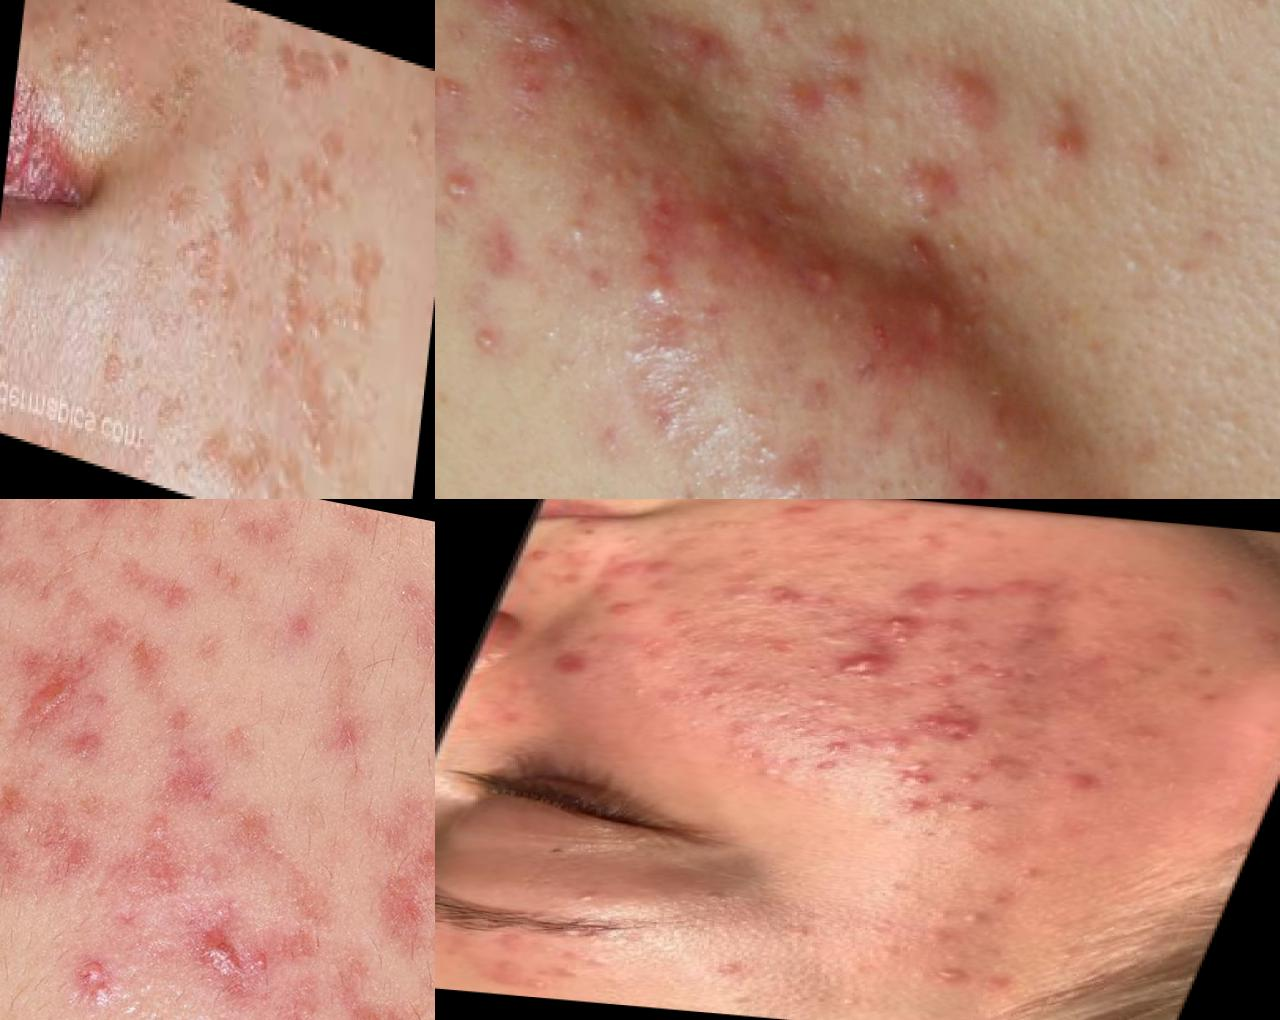flat_wart: (85, 312, 345, 500), (230, 136, 396, 379), (149, 165, 272, 353), (44, 1, 116, 121), (270, 22, 352, 123)
keloid: (167, 907, 297, 1003), (1, 637, 88, 757)
papular: (732, 230, 803, 303), (679, 193, 742, 260), (874, 578, 969, 622), (539, 647, 615, 681), (747, 581, 820, 615), (601, 550, 659, 582), (1056, 769, 1124, 795), (959, 754, 1026, 780), (973, 663, 1033, 687), (640, 557, 698, 581), (515, 541, 566, 567), (597, 600, 652, 622), (774, 500, 827, 522), (941, 584, 992, 606), (921, 673, 967, 694)
purulent: (802, 238, 878, 314), (460, 299, 521, 377), (626, 252, 698, 318), (436, 155, 492, 227), (549, 199, 614, 260), (910, 960, 996, 996), (876, 753, 947, 792), (857, 608, 929, 639), (472, 1, 540, 33), (877, 630, 933, 652), (802, 756, 855, 777), (812, 735, 862, 758), (890, 798, 935, 818), (921, 790, 959, 808), (954, 798, 992, 816), (954, 770, 992, 788)
sebo-crystan-conglo: (837, 228, 989, 420), (910, 32, 1023, 150), (908, 708, 1018, 749), (815, 651, 915, 684)
whitehead: (904, 901, 1012, 951), (533, 944, 621, 991), (712, 564, 785, 617), (538, 876, 618, 914), (699, 954, 769, 991), (793, 688, 856, 716), (866, 728, 926, 755), (729, 678, 782, 702), (698, 515, 761, 534), (766, 678, 807, 702), (652, 522, 698, 542), (905, 533, 950, 552), (1251, 628, 1280, 648), (866, 560, 901, 576), (734, 547, 769, 563)
